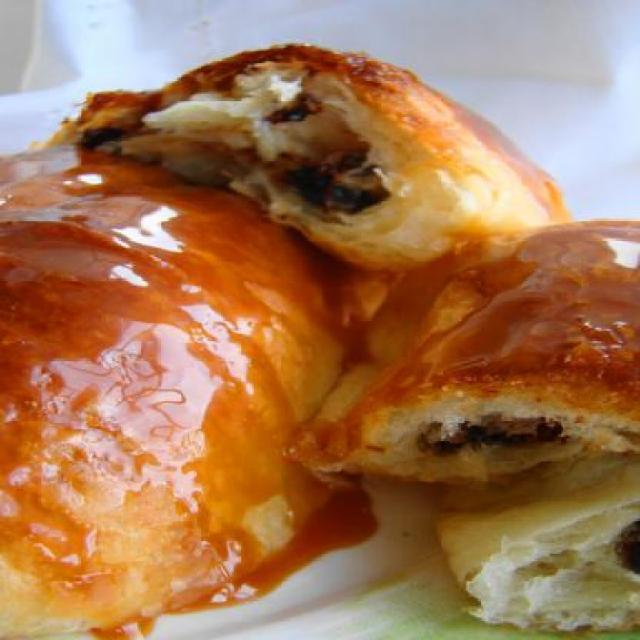Croissant: (1, 23, 640, 639)
